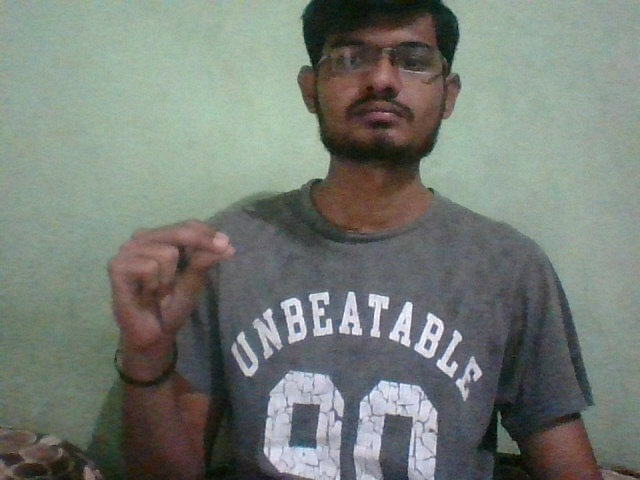no: (87, 217, 253, 351)
